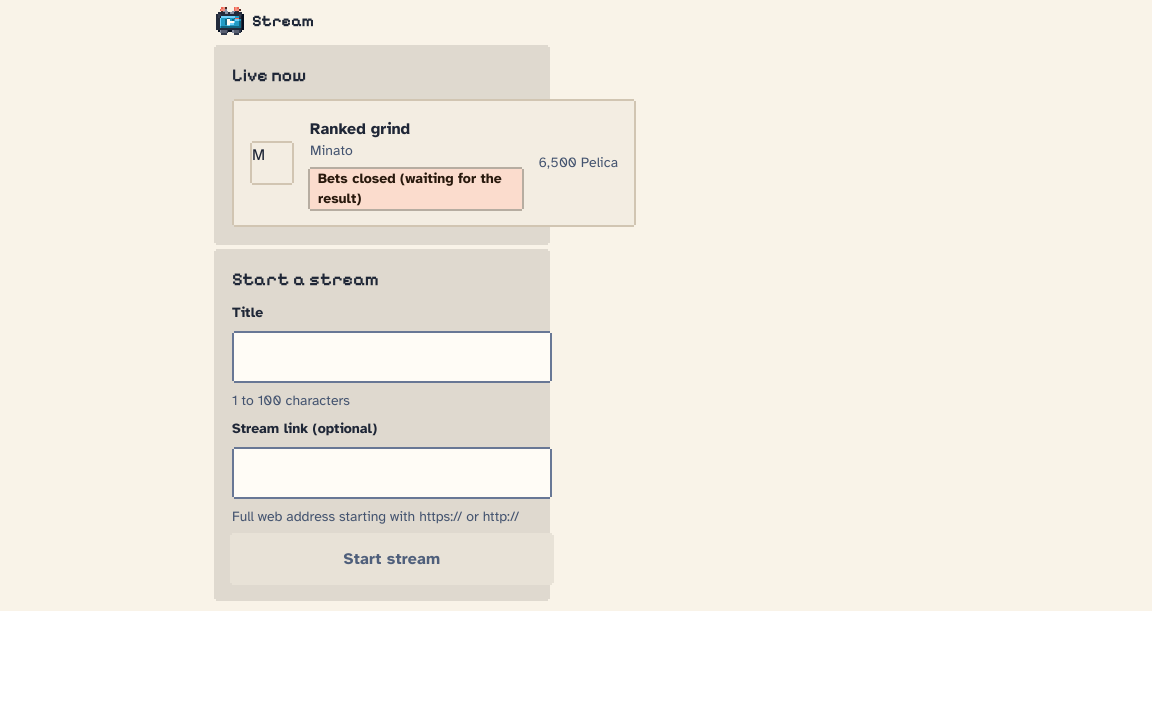
Scenario: StreamScreen › hides location when null and disables betting when round is locked or ended
Later steps or results of the test are not shown.
Click the button with class "bb-list__item" at (272,163), box [234,109,634,217]
(page scrolled)
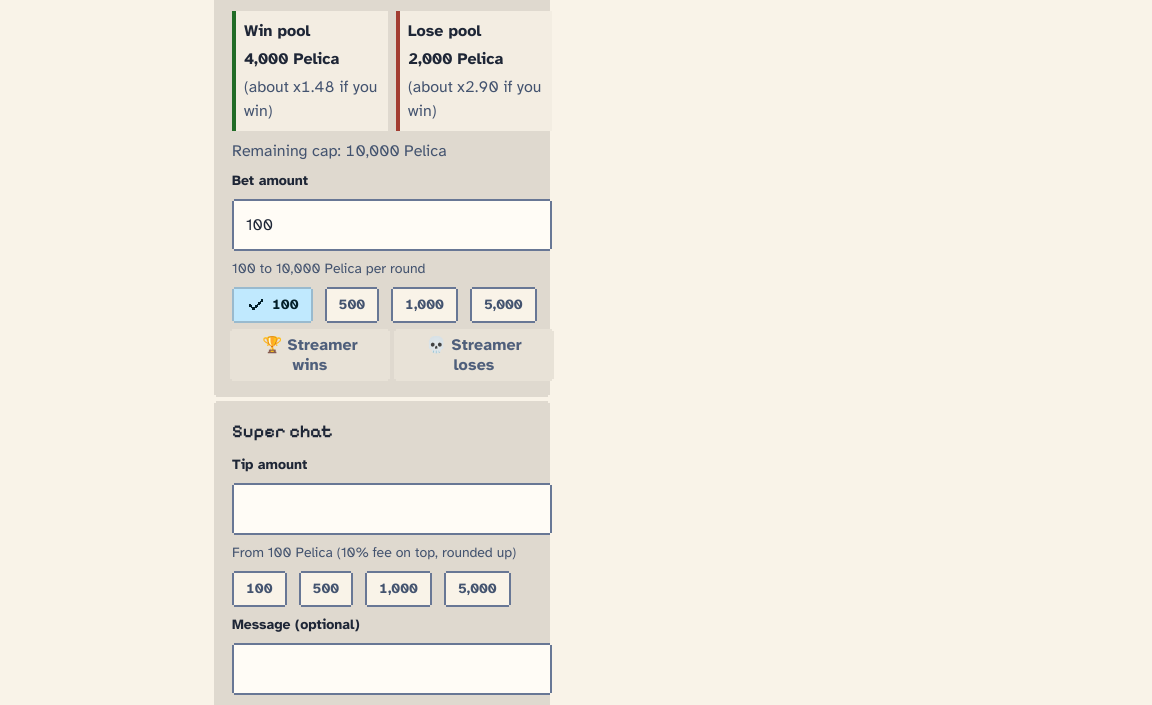
Now the button "🏆 Streamer wins" is disabled, box [232,331,388,379]
Now the button "💀 Streamer loses" is disabled, box [396,331,552,379]
